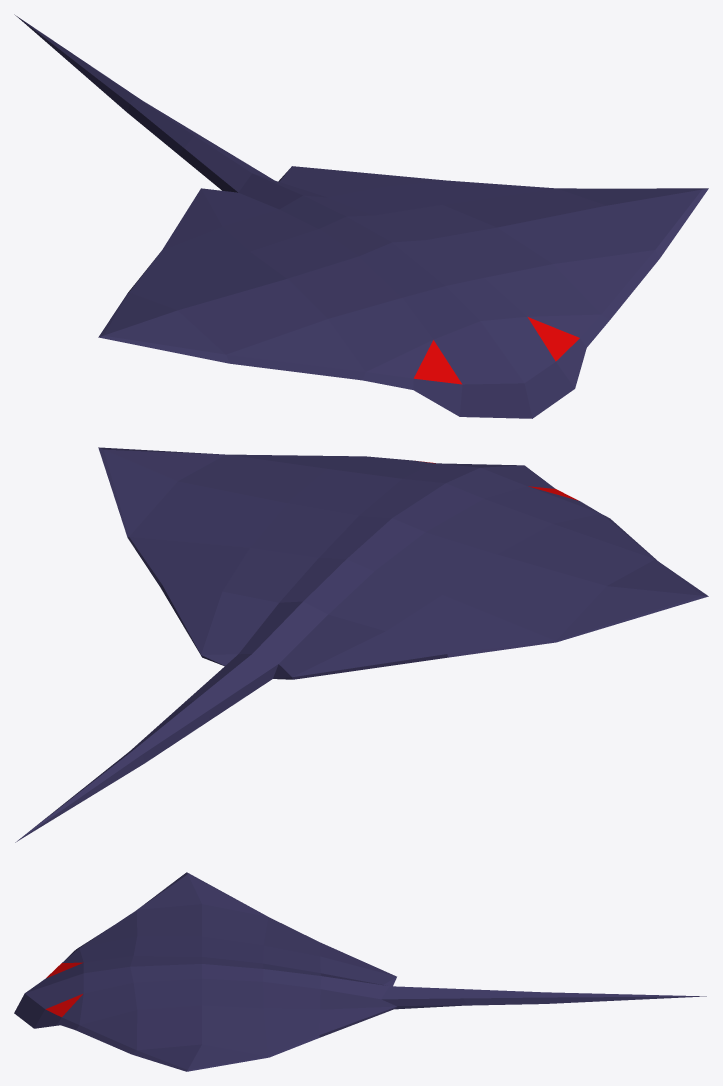
File: fish.fbx
The picture shows the model from 3 angles, top to bottom: view 1: azimuth 30°, elevation 25°; view 2: azimuth 150°, elevation 25°; view 3: azimuth 270°, elevation 25°; orthographic projection. The views are drawn at different scales.
Visible parts, largest first — view 1: Ray_fish; view 2: Ray_fish; view 3: Ray_fish.
Boxes of the visible parts, x1,y1,x2,y2 form: Ray_fish: (14, 14, 708, 418); Ray_fish: (15, 447, 708, 842); Ray_fish: (14, 872, 706, 1071).
Bounding box in the file's own units: 13.85 × 1.76 × 20.37.
